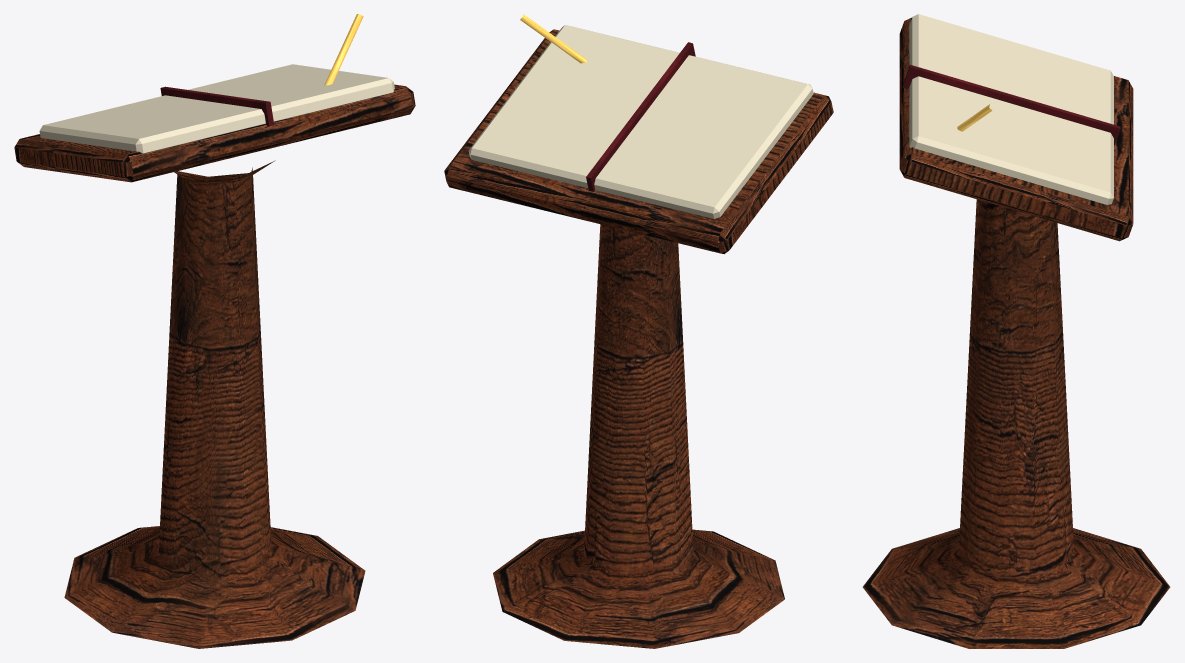
File: sp_guestbook.glb
3 renders of one model, left to right at view 1: azimuth 30°, elevation 25°; view 2: azimuth 150°, elevation 25°; view 3: azimuth 270°, elevation 25°, orthographic. The views are drawn at different scales.
Parts seen in each view (by area): view 1: spire; view 2: spire; view 3: spire.
Part boxes in pixels (left/top/right/bottom): spire: left=14, top=14, right=415, bottom=648; spire: left=444, top=14, right=833, bottom=648; spire: left=862, top=14, right=1170, bottom=648.
Size of what is drawn, in the model's own units: 0.7 by 1.26 by 0.64.
Materials: 4 (3 with a texture image).
